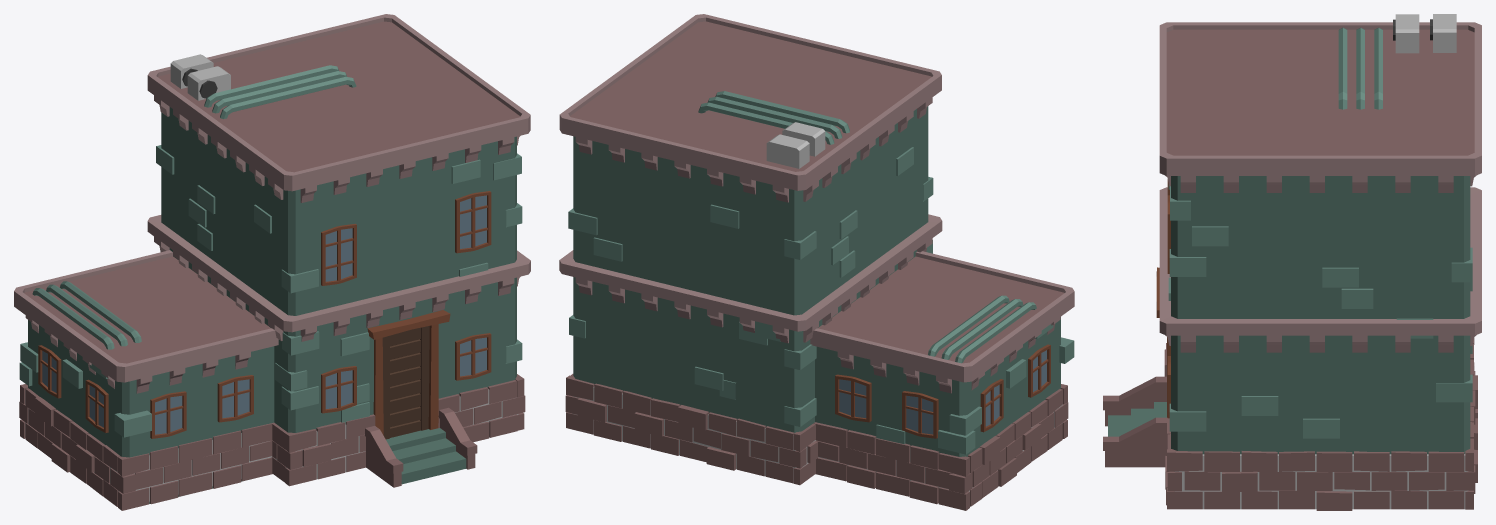
File: 2Story_Sidehouse_Mat.glb
3 views of the same model, side by side, from view 1: azimuth 30°, elevation 25°; view 2: azimuth 150°, elevation 25°; view 3: azimuth 270°, elevation 25° (orthographic). The views are drawn at different scales.
Visible parts, largest first — view 1: 2Story_Sidehouse_Mat; view 2: 2Story_Sidehouse_Mat; view 3: 2Story_Sidehouse_Mat.
Boxes of the visible parts, x1,y1,x2,y2 form: 2Story_Sidehouse_Mat: (14,14,530,510); 2Story_Sidehouse_Mat: (559,14,1074,510); 2Story_Sidehouse_Mat: (1103,14,1481,510).
Bounding box in the file's own units: 3.47 × 2.76 × 2.53.
